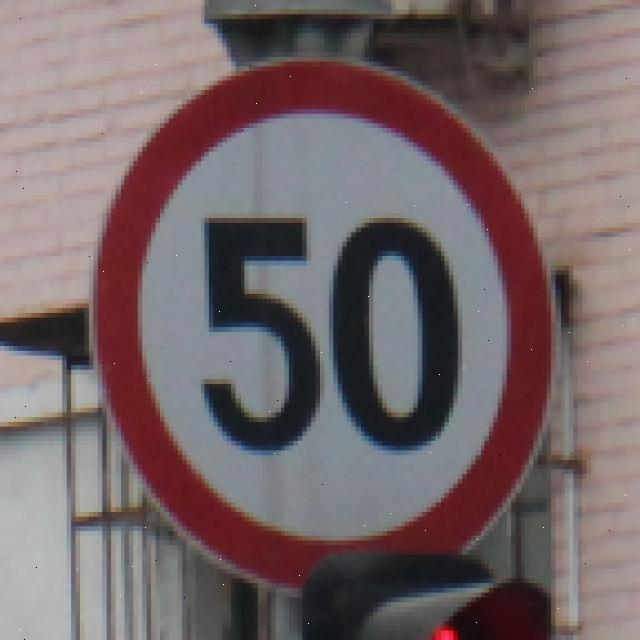speed limit 50: (90, 60, 559, 592)
